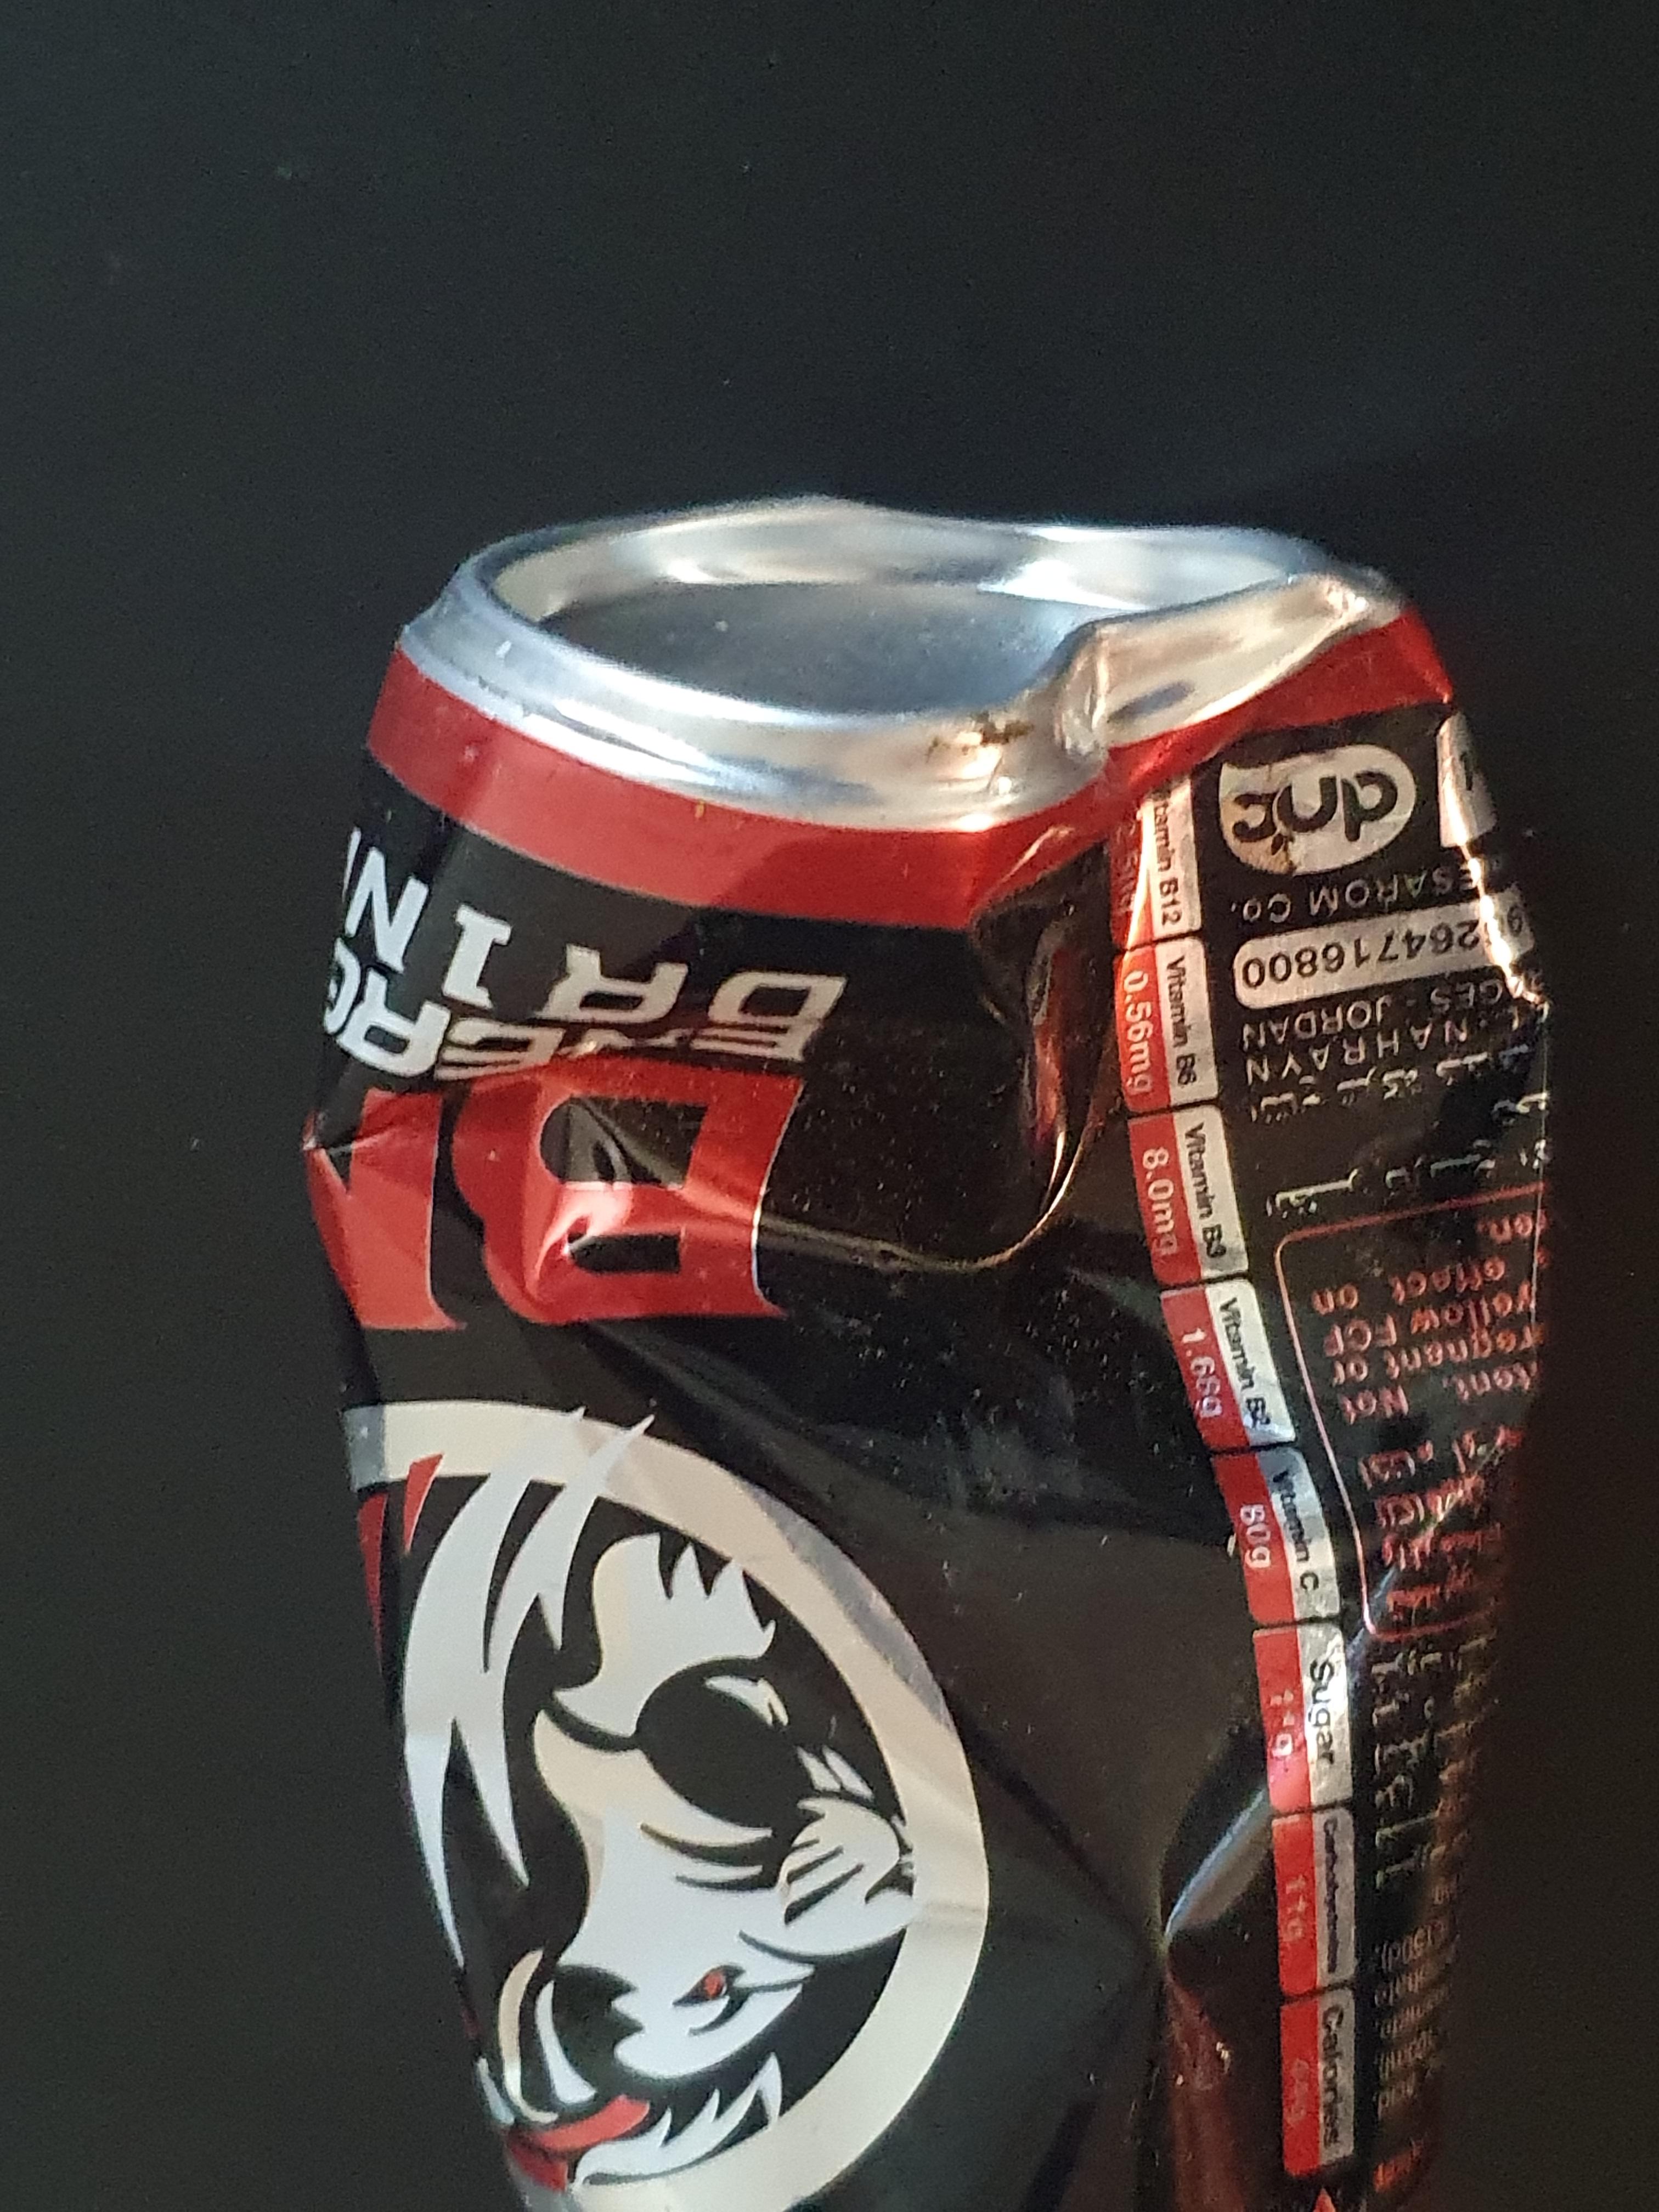metal: (274, 441, 1574, 2212)
